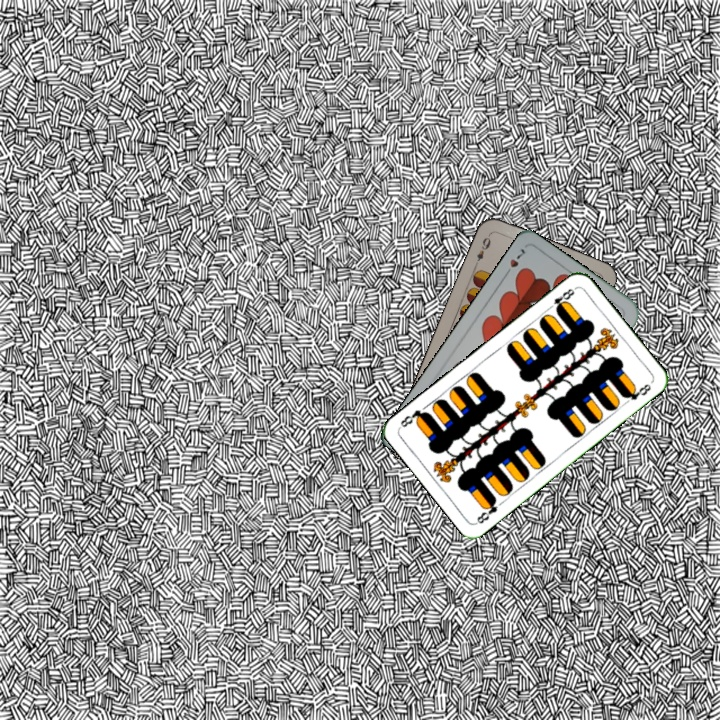E8: (543, 284, 578, 314), (472, 494, 500, 526)
E9: (473, 230, 493, 264)
H7: (500, 244, 528, 280)
